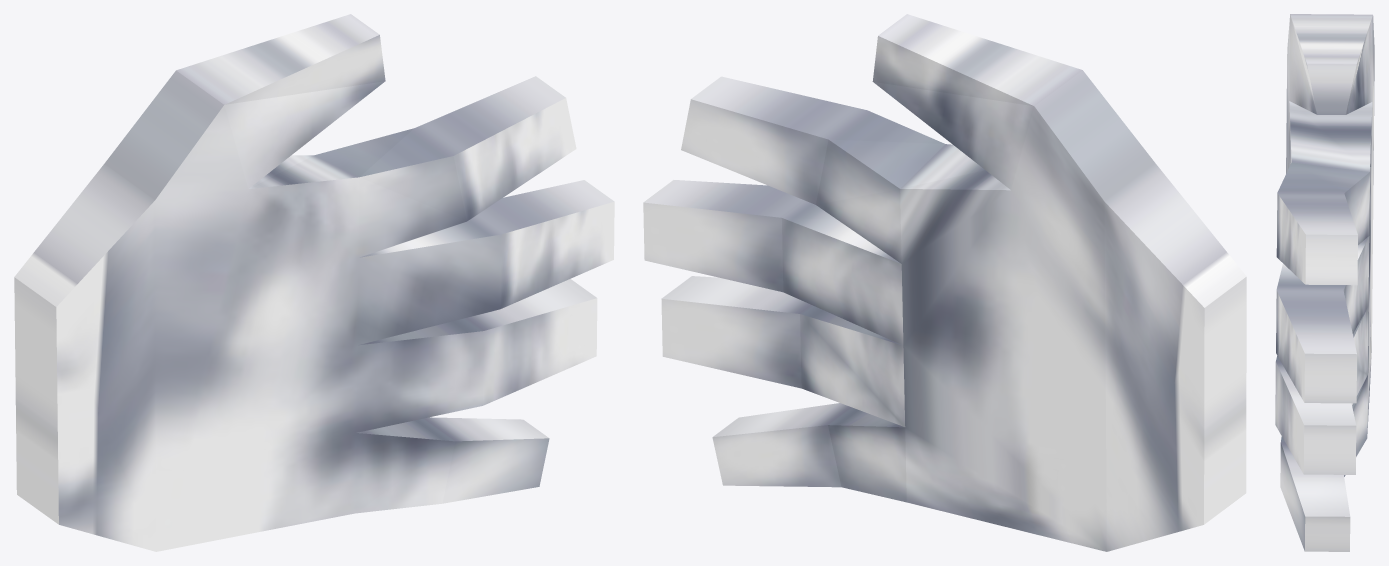
Rendered from hand.glb.
3 views of the same model, side by side, from view 1: azimuth 30°, elevation 25°; view 2: azimuth 150°, elevation 25°; view 3: azimuth 270°, elevation 25° (orthographic). The views are drawn at different scales.
Parts seen in each view (by area): view 1: hand_m03cf4f40; view 2: hand_m03cf4f40; view 3: hand_m03cf4f40.
Boxes of the visible parts, <box> form: hand_m03cf4f40: <box>14,14,614,551</box>; hand_m03cf4f40: <box>643,14,1246,551</box>; hand_m03cf4f40: <box>1275,14,1374,551</box>.
Size of the model in its own units: 41.72 by 34.61 by 7.41.
1 material, 1 textured.
